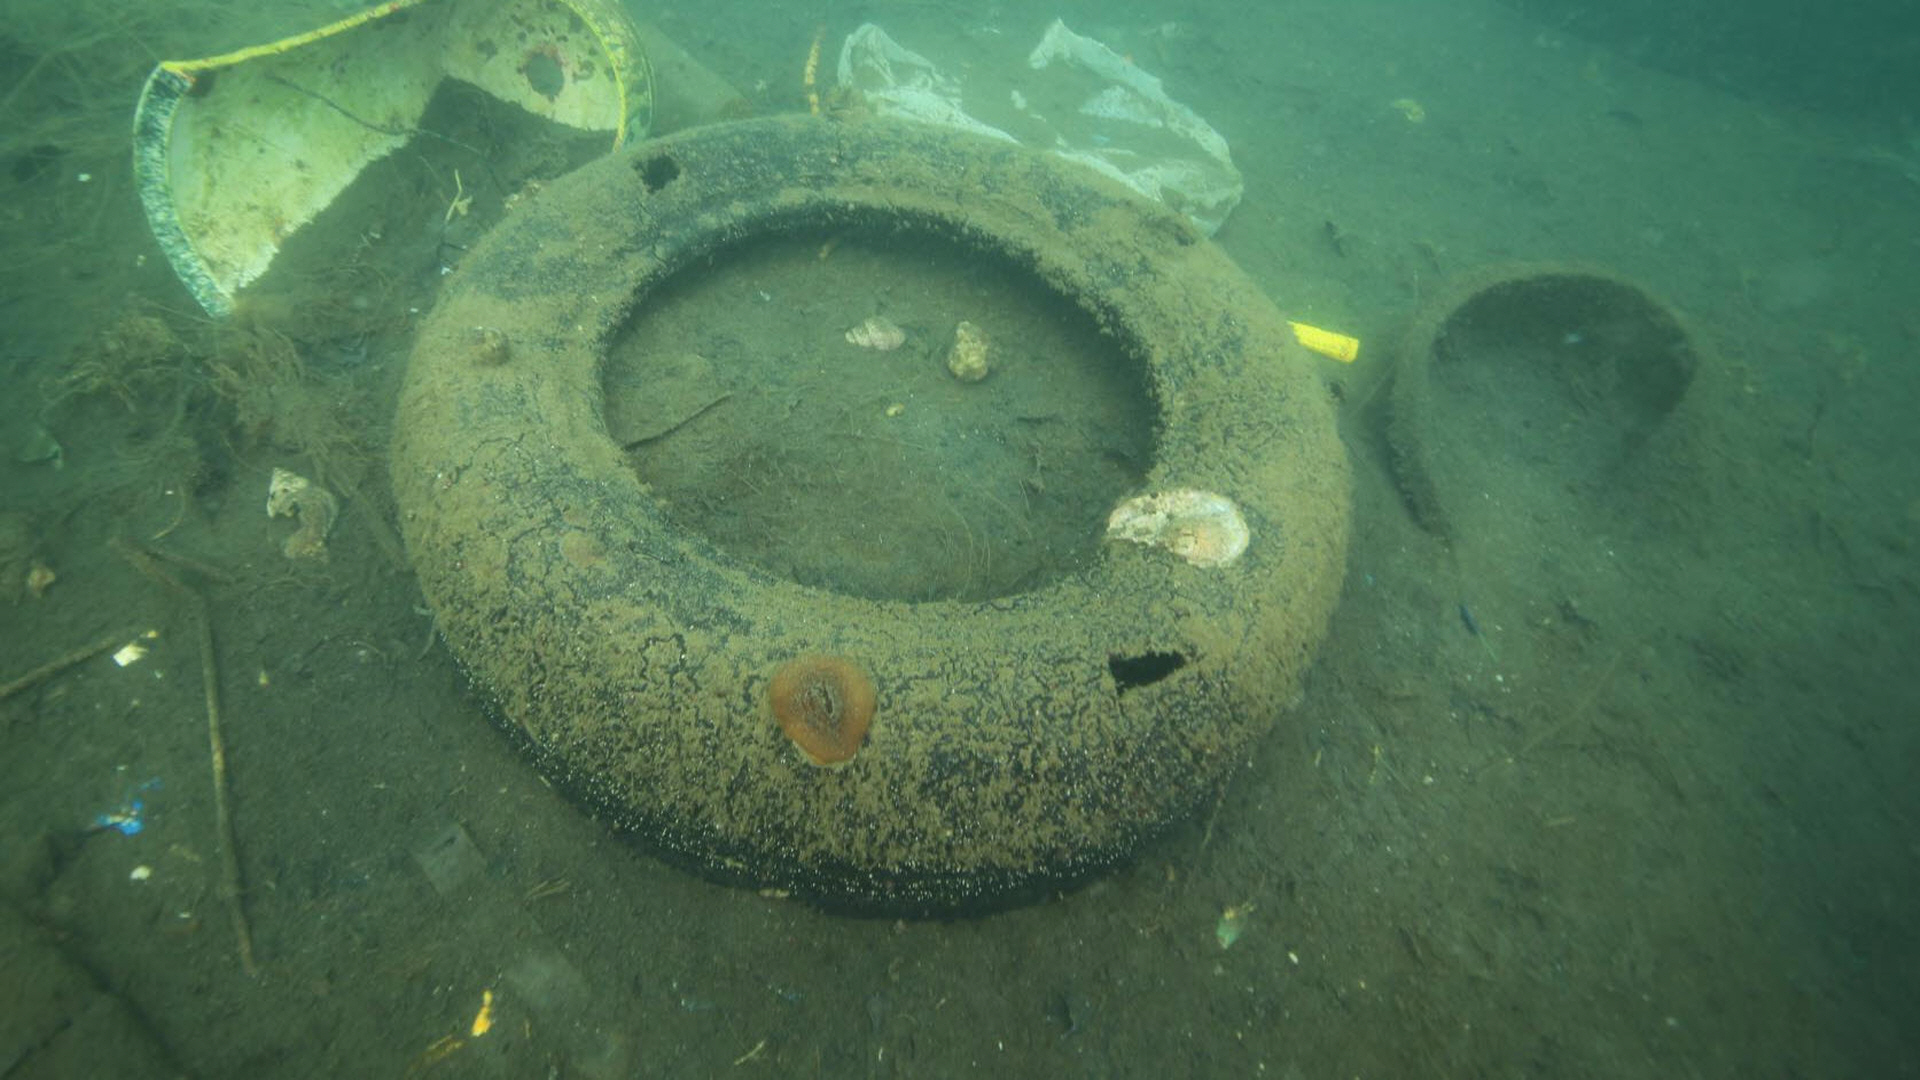tire: (382, 109, 1356, 922)
